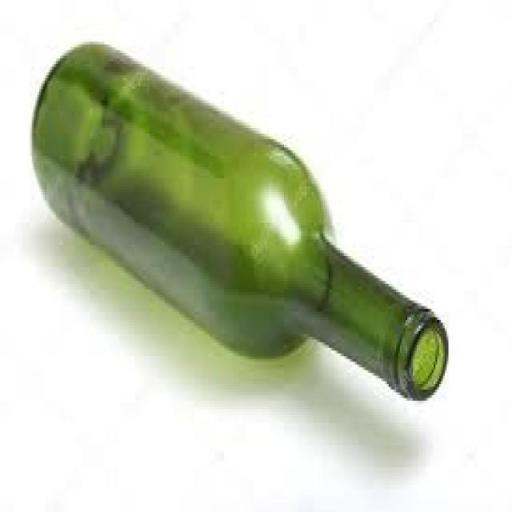glass: (34, 40, 443, 410)
